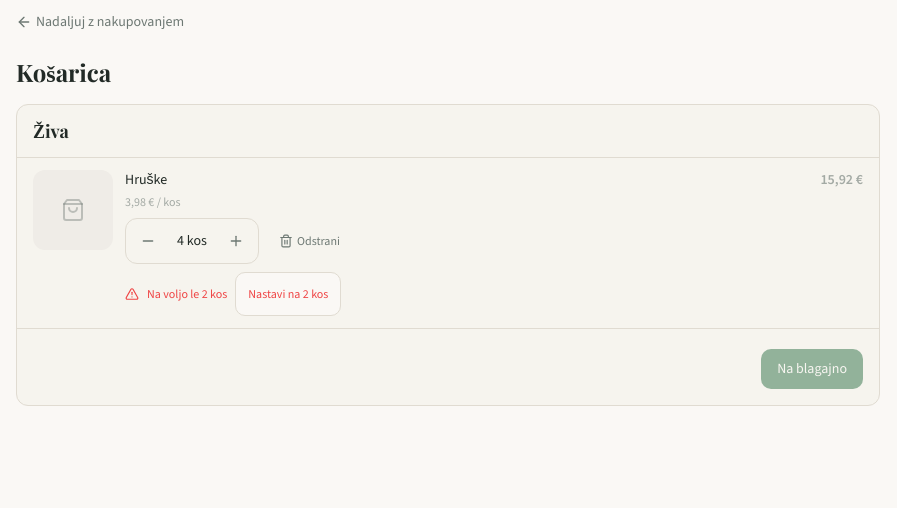
it: CartPage › a line the server refuses is marked with a one-click fix; the shop cannot check out until it is fixed
The image size is (897, 508).
Expected: the button with test id "cart-checkout" is disabled, left=761, top=349, right=863, bottom=389
Click the button "Nastavi na 2 kos" at {"x": 288, "y": 294}, box left=235, top=272, right=341, bottom=316
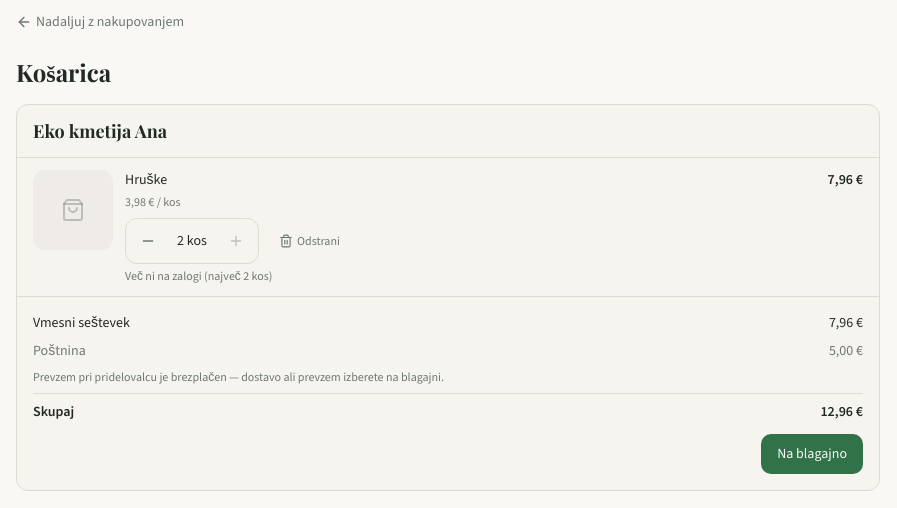
Expected: the link with test id "cart-checkout" is shown, left=761, top=434, right=863, bottom=474
Now the message with test id "line-problem" is gone
